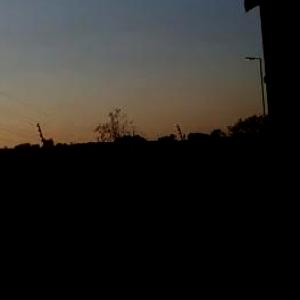follow: (104, 125, 186, 299)
